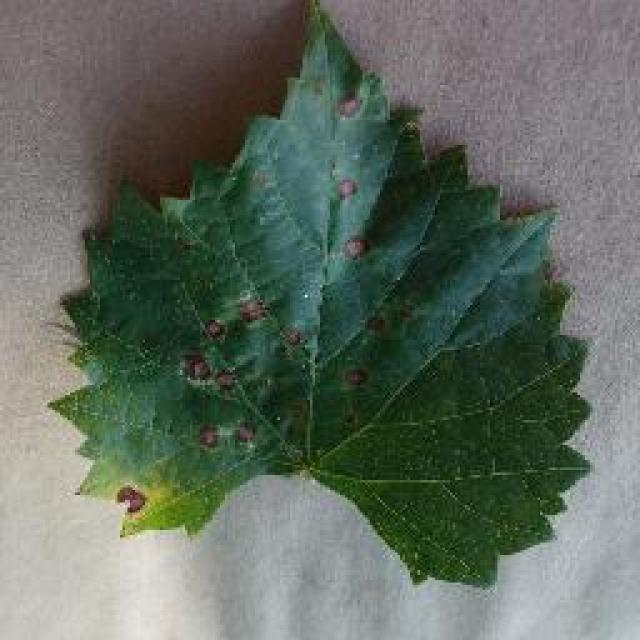Grape___Black_rot: (41, 0, 598, 594)
